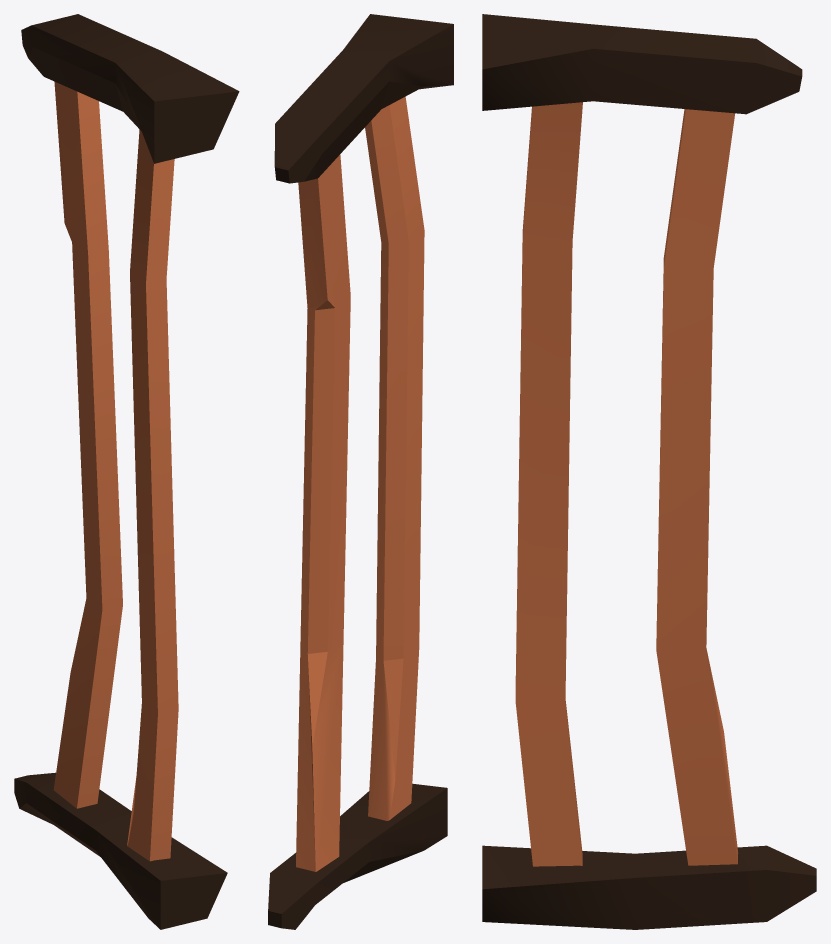
File: Fence_01.FBX
3 views of the same model, side by side, from view 1: azimuth 30°, elevation 25°; view 2: azimuth 150°, elevation 25°; view 3: azimuth 270°, elevation 25° (orthographic). The views are drawn at different scales.
Parts seen in each view (by area): view 1: Fence_01; view 2: Fence_01; view 3: Fence_01.
Boxes of the visible parts, box(x1,y1,x2,y2) form: Fence_01: box(14, 14, 239, 929); Fence_01: box(268, 14, 453, 929); Fence_01: box(482, 14, 816, 929).
Size of the model in its own units: 0.388 by 3.62 by 1.24.
